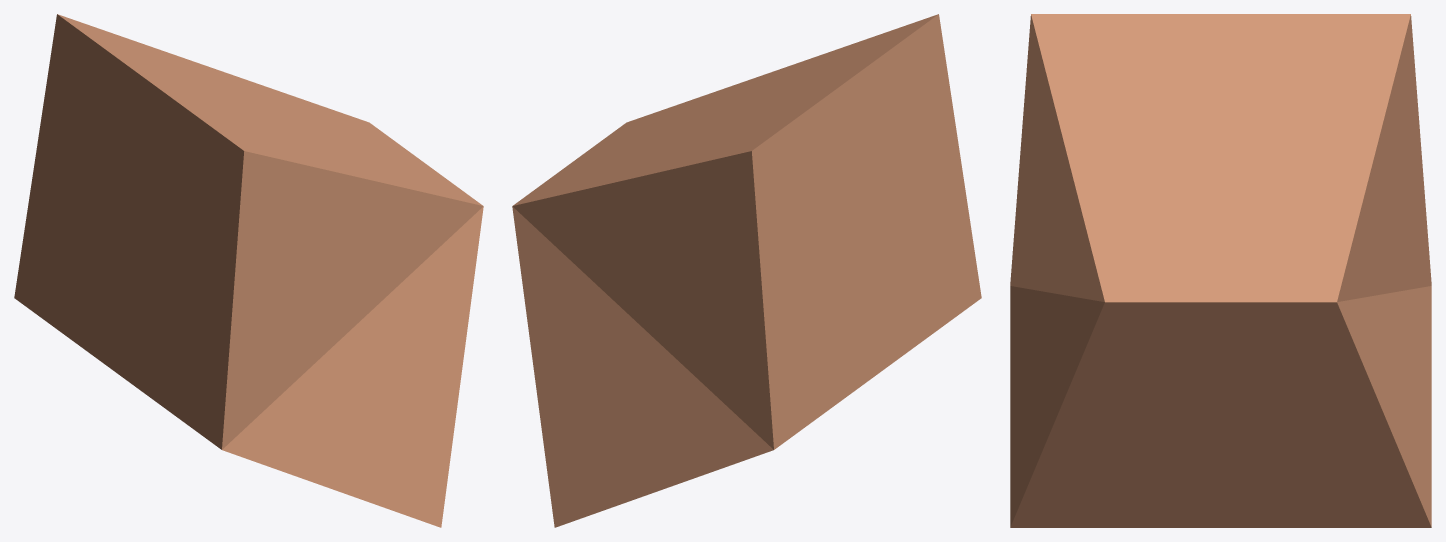
File: neck.dae
The picture shows the model from 3 angles, left to right: view 1: azimuth 30°, elevation 25°; view 2: azimuth 150°, elevation 25°; view 3: azimuth 270°, elevation 25°; orthographic projection.
Parts seen in each view (by area): view 1: neck; view 2: neck; view 3: neck.
Boxes of the visible parts, left/top/right/bottom form: neck: left=14, top=14, right=483, bottom=527; neck: left=512, top=14, right=981, bottom=527; neck: left=1010, top=14, right=1431, bottom=527.
Bounding box in the file's own units: 0.1341 × 0.1563 × 0.1724.
